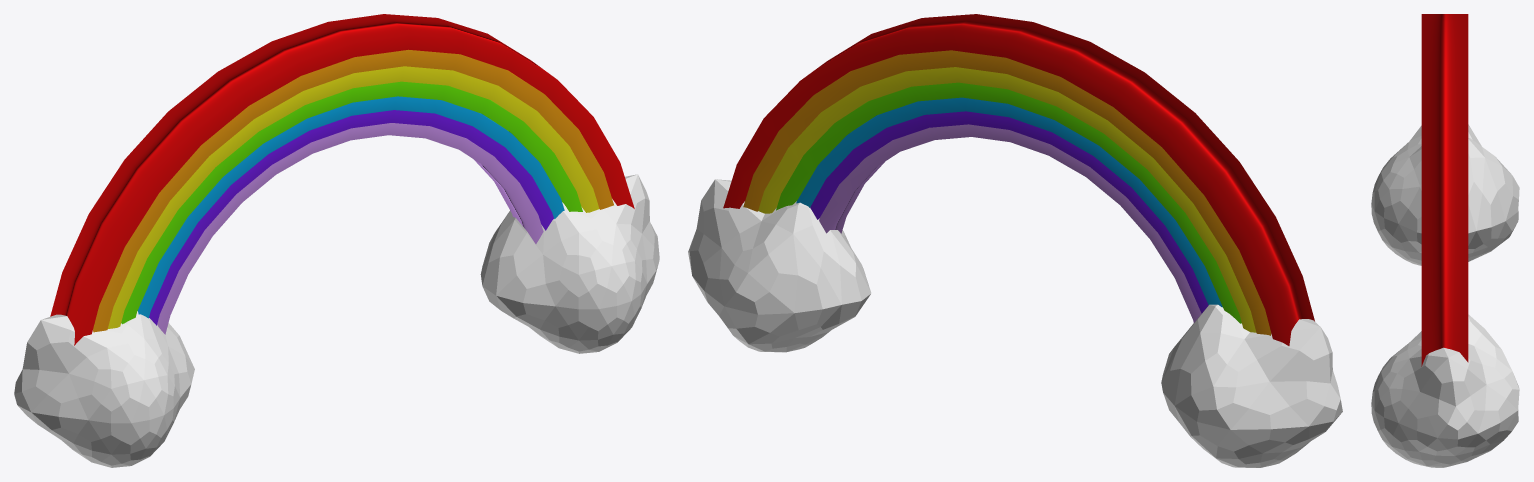
The model's file is rainbow.glb.
3 views of the same model, side by side, from view 1: azimuth 30°, elevation 25°; view 2: azimuth 150°, elevation 25°; view 3: azimuth 270°, elevation 25° (orthographic). The views are drawn at different scales.
Visible parts, largest first — view 1: Icosphere_2, Cylinder_3, Cylinder.001_4, Cylinder.002_5, Cylinder.003_6, Cylinder.004_7, Cylinder.006_9, Cylinder.005_8; view 2: Icosphere_2, Cylinder_3, Cylinder.001_4, Cylinder.002_5, Cylinder.003_6, Cylinder.004_7, Cylinder.006_9, Cylinder.005_8; view 3: Icosphere_2, Cylinder_3.
Boxes of the visible parts, box(x1,y1,x2,y2) form: Icosphere_2: box(14, 174, 659, 467); Cylinder_3: box(50, 14, 634, 345); Cylinder.001_4: box(93, 49, 613, 332); Cylinder.002_5: box(108, 66, 599, 328); Cylinder.003_6: box(121, 81, 582, 324); Cylinder.004_7: box(137, 96, 564, 318); Cylinder.006_9: box(157, 123, 543, 334); Cylinder.005_8: box(149, 110, 553, 325); Icosphere_2: box(688, 179, 1342, 467); Cylinder_3: box(723, 14, 1314, 345); Cylinder.001_4: box(743, 50, 1271, 335); Cylinder.002_5: box(758, 67, 1256, 332); Cylinder.003_6: box(776, 82, 1241, 323); Cylinder.004_7: box(796, 97, 1222, 307); Cylinder.006_9: box(819, 124, 1201, 322); Cylinder.005_8: box(810, 111, 1208, 313); Icosphere_2: box(1371, 124, 1519, 467); Cylinder_3: box(1421, 14, 1468, 366).
Bounding box in the file's own units: 11.13 × 6.16 × 2.56.
